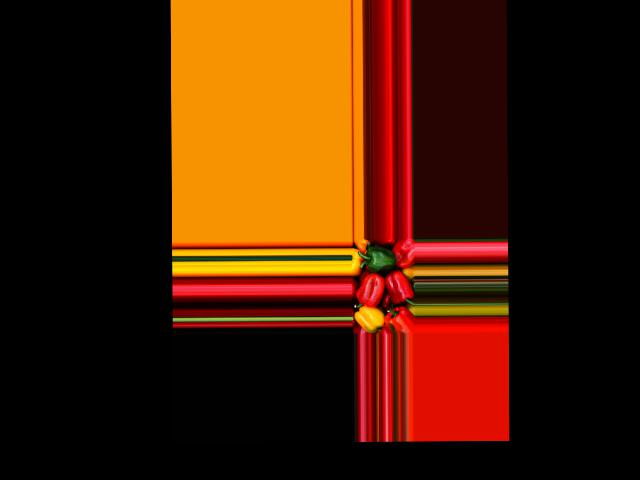bell_pepper: (352, 303, 387, 333)
